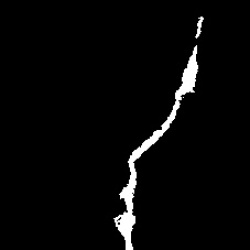crack: (113, 18, 203, 247)
